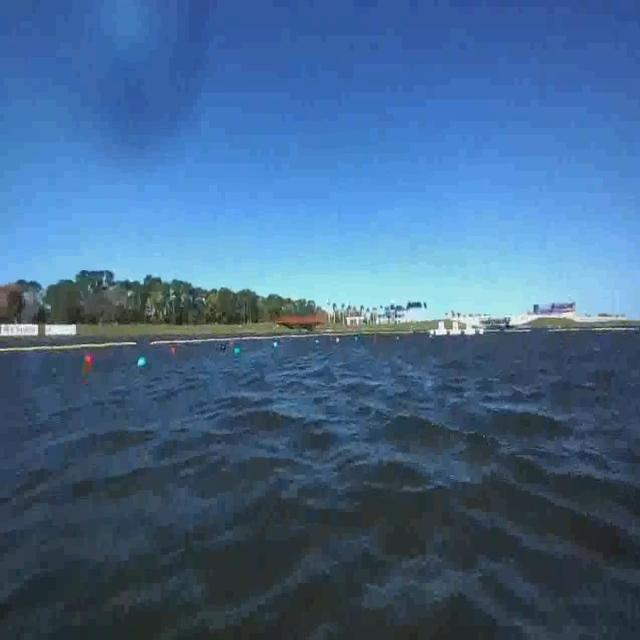green-buoy: (138, 354, 149, 370)
red-buoy: (85, 355, 93, 364)
